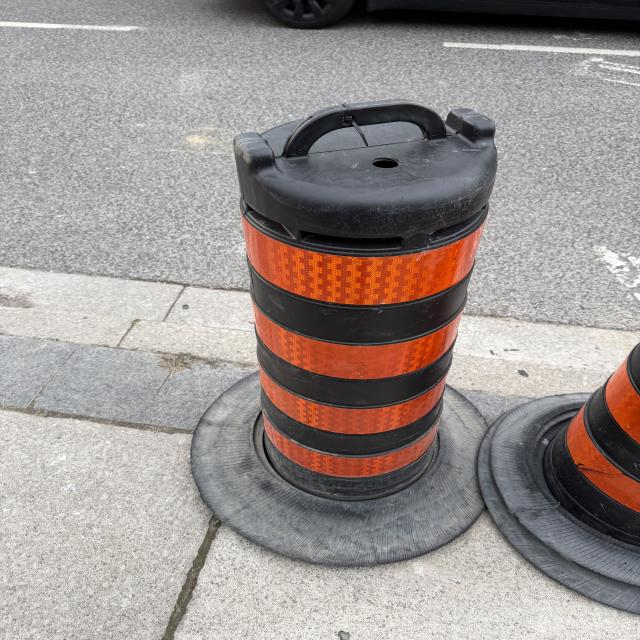Teraffic Barrel: (192, 100, 496, 566), (478, 344, 640, 613)
